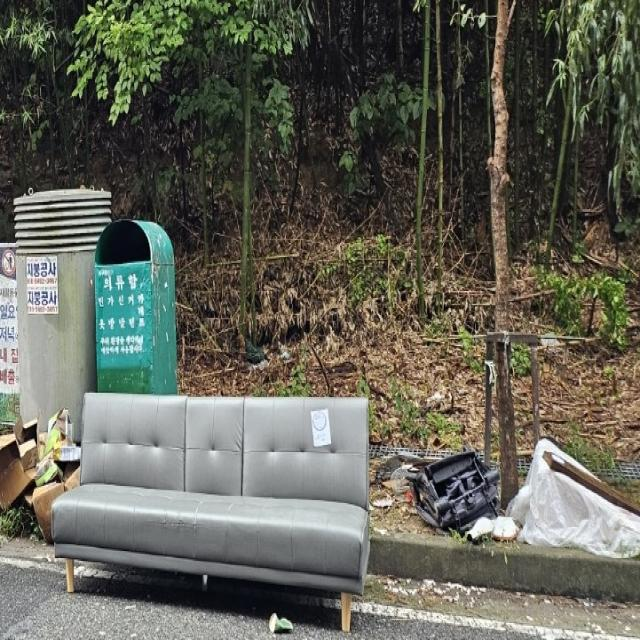General Waste: (0, 410, 82, 548)
Large Waste Items: (58, 386, 374, 630)
